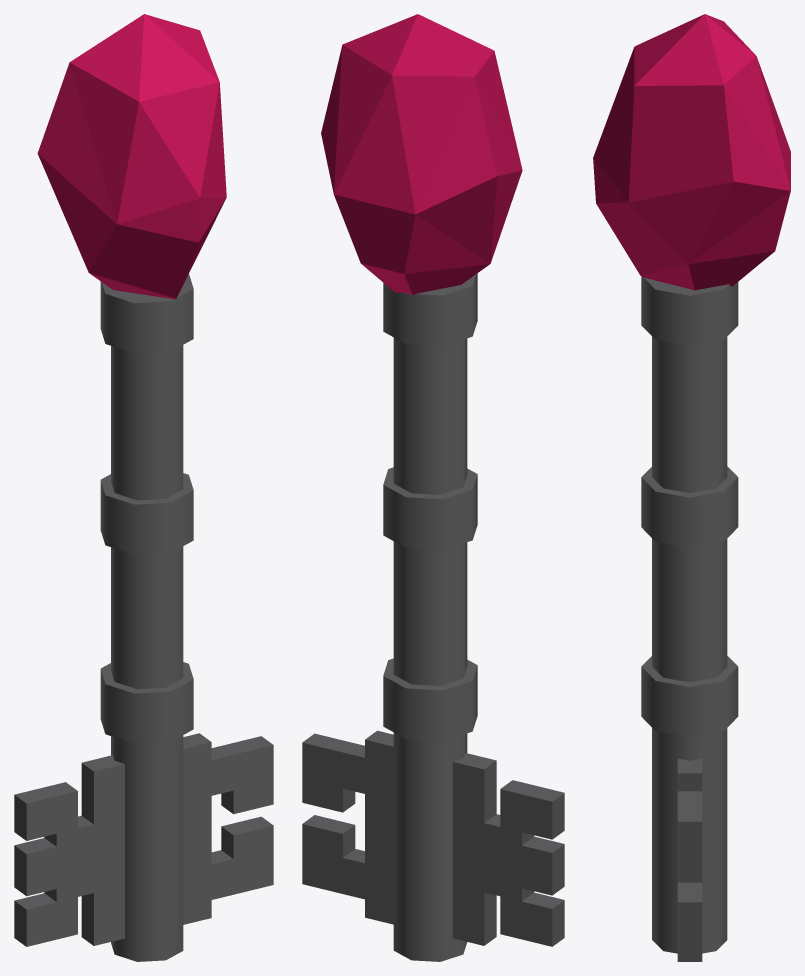
The model's file is Key.fbx.
3 renders of one model, left to right at view 1: azimuth 30°, elevation 25°; view 2: azimuth 150°, elevation 25°; view 3: azimuth 270°, elevation 25°, orthographic.
Parts seen in each view (by area): view 1: Cylinder.001, cristal; view 2: Cylinder.001, cristal; view 3: Cylinder.001, cristal.
Boxes of the visible parts, left/top/right/bottom form: Cylinder.001: left=14, top=274, right=273, bottom=961; cristal: left=37, top=14, right=226, bottom=299; Cylinder.001: left=302, top=273, right=564, bottom=961; cristal: left=321, top=14, right=522, bottom=295; Cylinder.001: left=641, top=276, right=738, bottom=961; cristal: left=593, top=14, right=790, bottom=290.
Size of the model in its own units: 8.16 by 29.21 by 5.64.
